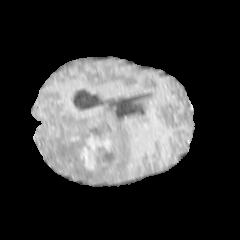glioma: (38, 108, 131, 181)
